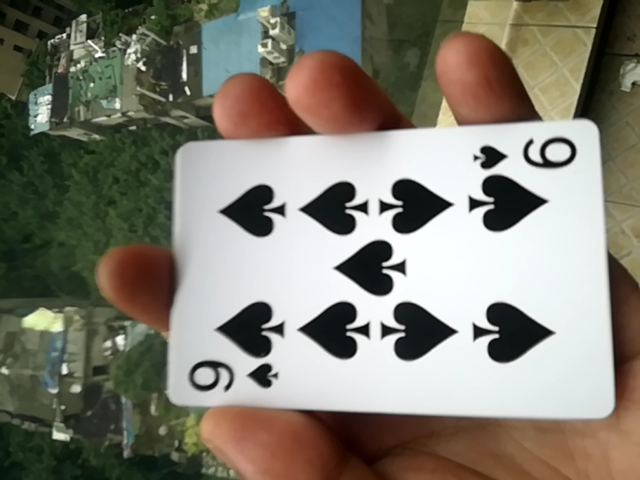ht 9: (155, 126, 619, 422)
